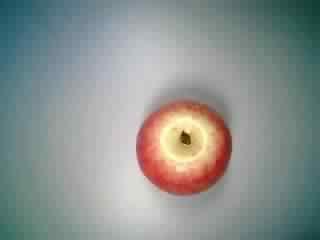apple: (130, 96, 236, 200)
